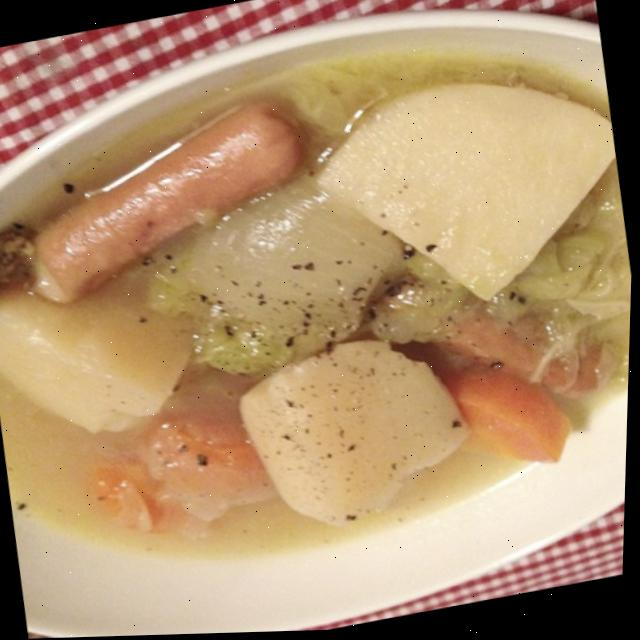汤锅炖物: (0, 13, 639, 596)
